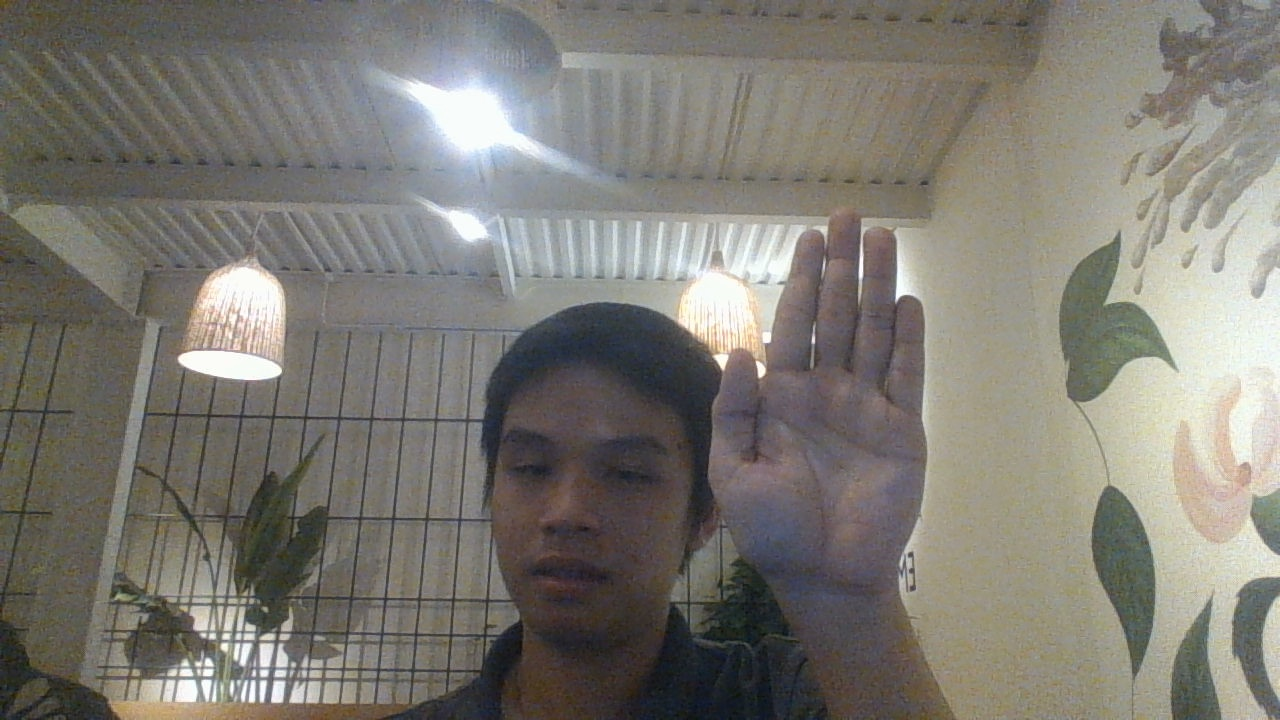check: (704, 206, 936, 593)
